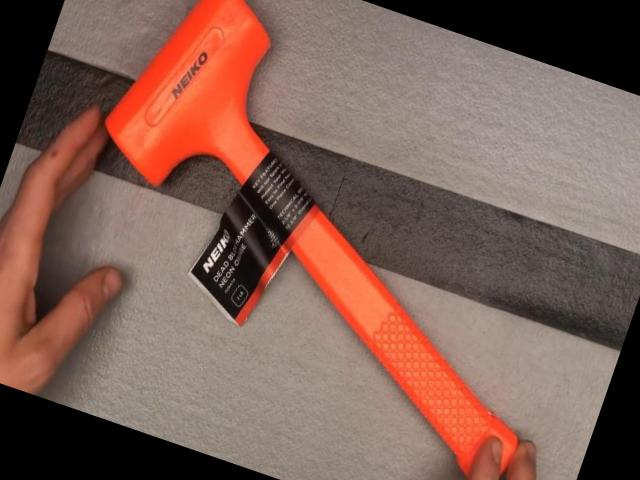hammer: (30, 0, 634, 480)
